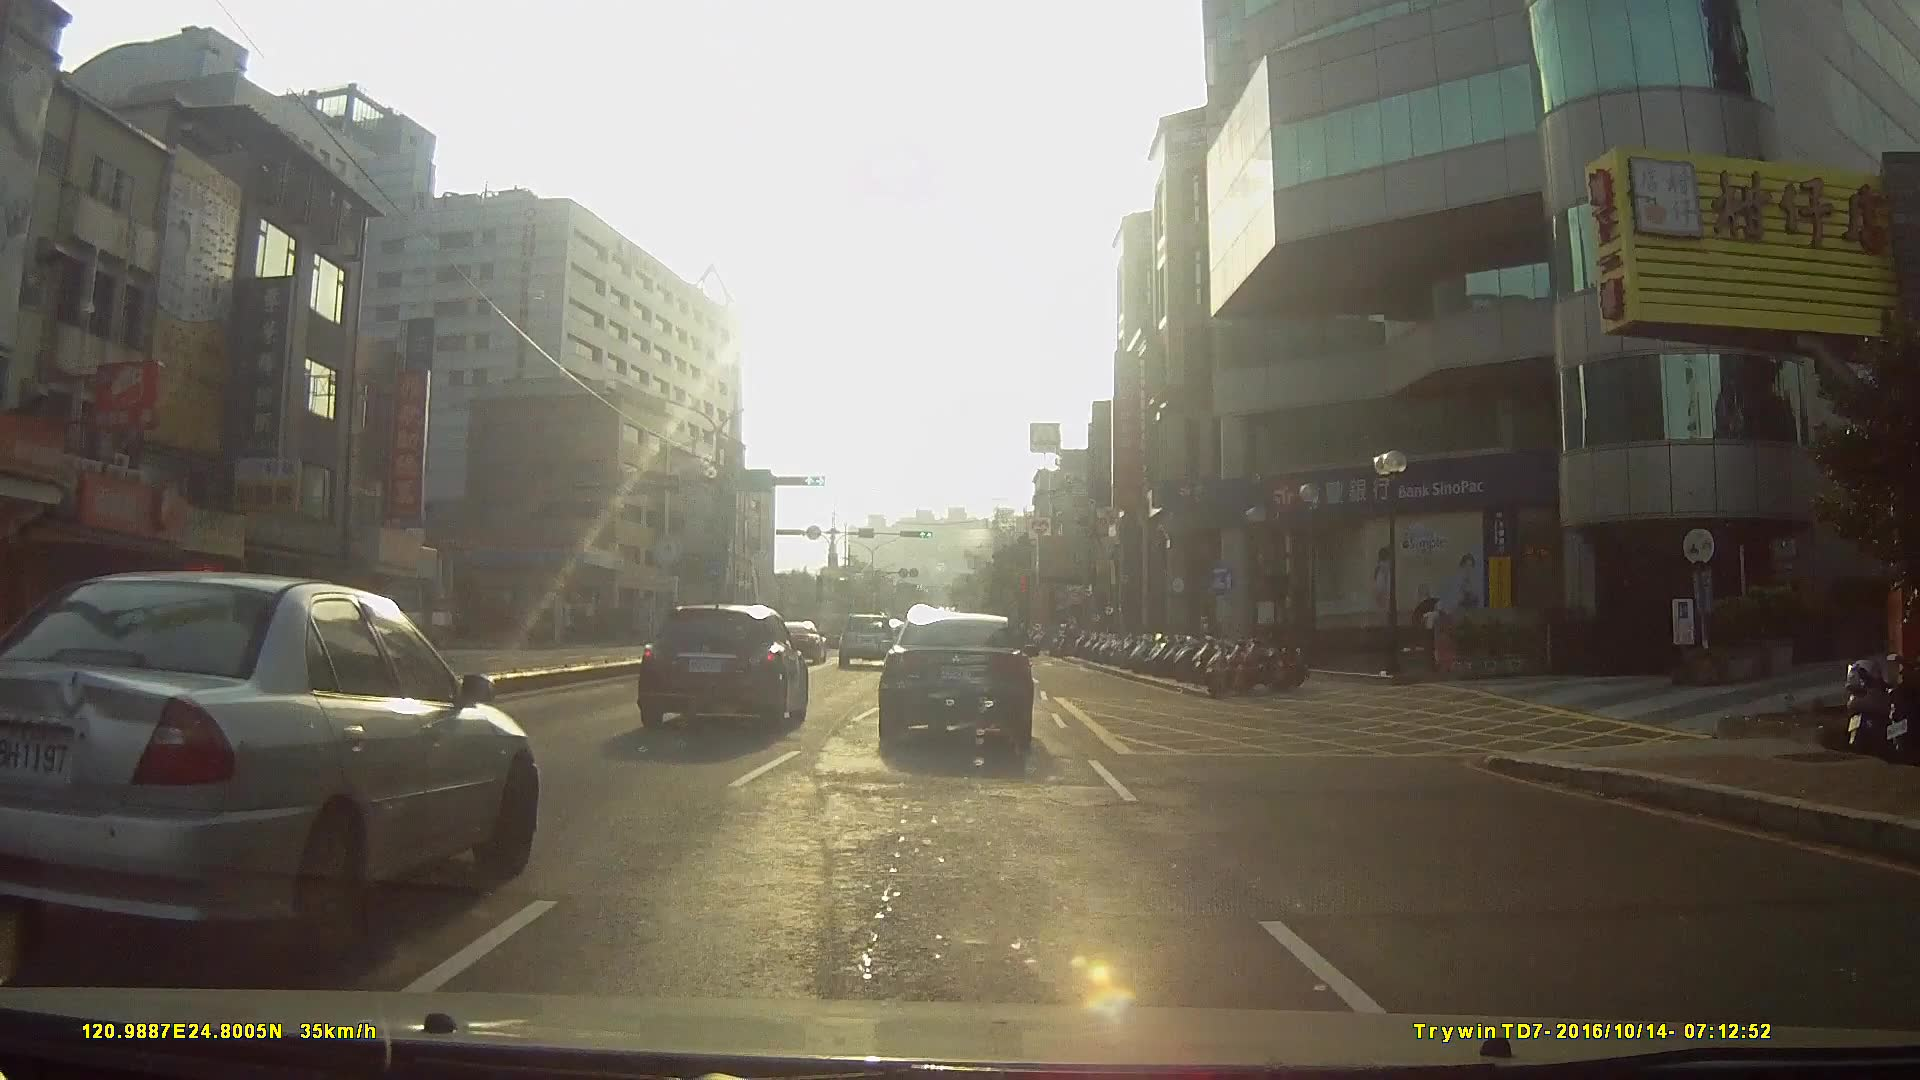pedestrian: (1429, 591, 1460, 679), (1418, 593, 1444, 668)
vehicle: (0, 564, 533, 963), (629, 592, 804, 727), (874, 608, 1034, 753), (832, 606, 894, 667), (767, 614, 820, 661)
